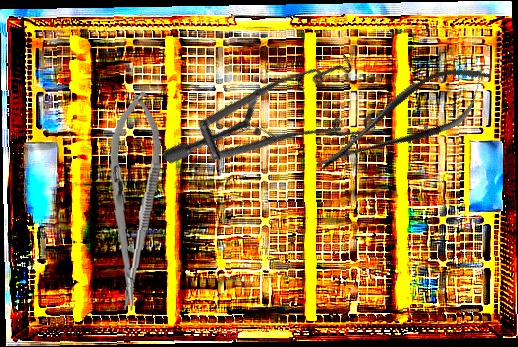Micro Scissor: (304, 50, 504, 190)
Needle Holder: (101, 88, 165, 314)
Speculum: (161, 12, 398, 249)
